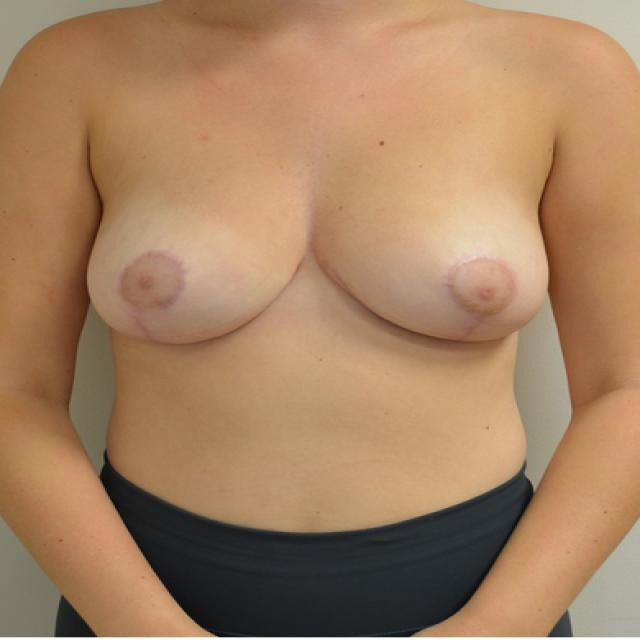Seno herido: (324, 141, 564, 353), (77, 140, 314, 352)
